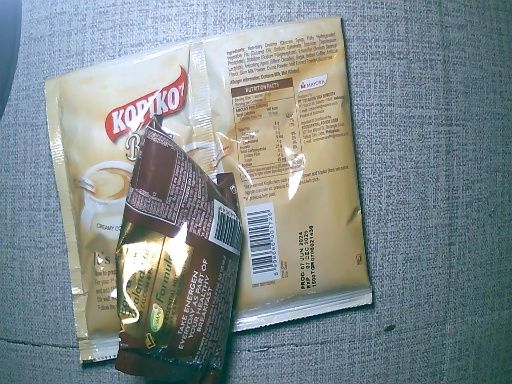plastic: (50, 11, 376, 308), (111, 118, 244, 384)
